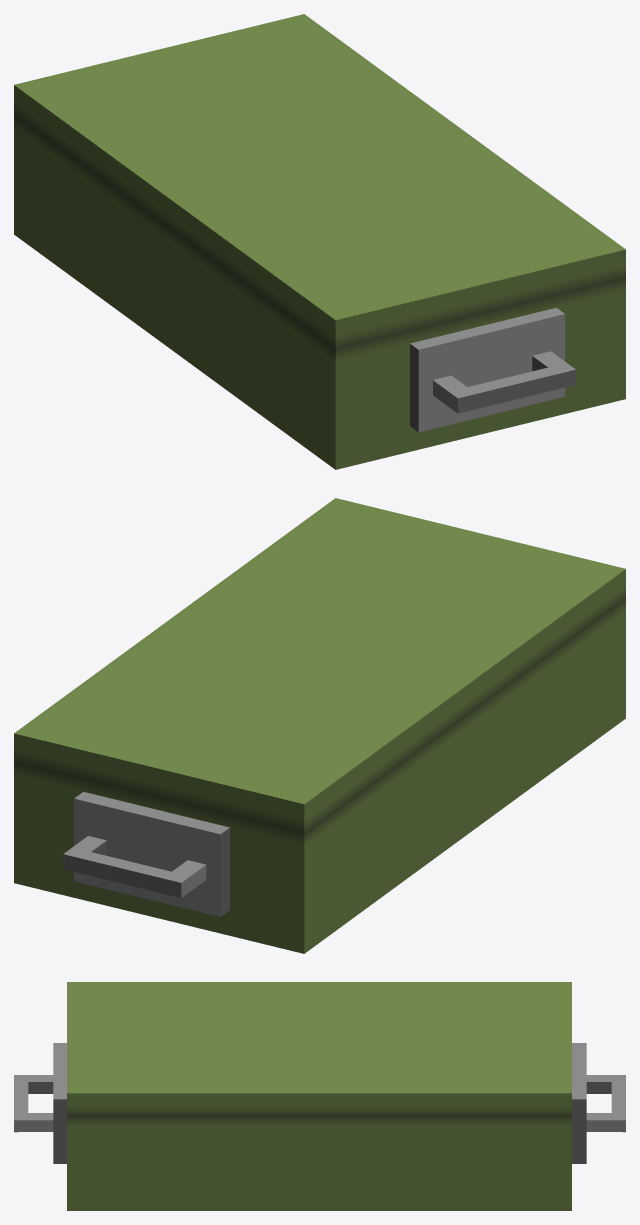
Rendered from SM_Prop_Metal_Box_03.fbx.
3 renders of one model, top to bottom at view 1: azimuth 30°, elevation 25°; view 2: azimuth 150°, elevation 25°; view 3: azimuth 270°, elevation 25°, orthographic. The views are drawn at different scales.
Visible parts, largest first — view 1: SM_Prop_Metal_Box_03; view 2: SM_Prop_Metal_Box_03; view 3: SM_Prop_Metal_Box_03.
Boxes of the visible parts, bbox=[...] form: SM_Prop_Metal_Box_03: bbox=[14, 14, 625, 469]; SM_Prop_Metal_Box_03: bbox=[14, 498, 625, 953]; SM_Prop_Metal_Box_03: bbox=[14, 982, 625, 1210].
Size of the model in its own units: 0.969 by 0.4774 by 2.25.
